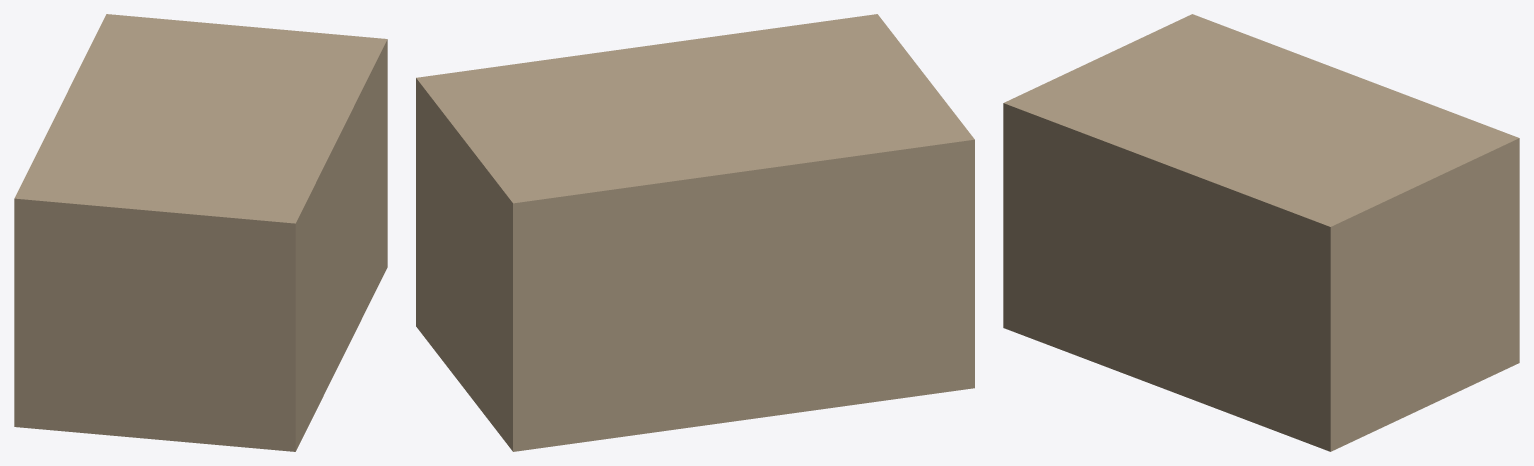
Rendered from bld_101374776.dae.
The picture shows the model from 3 angles, left to right: view 1: azimuth 30°, elevation 25°; view 2: azimuth 150°, elevation 25°; view 3: azimuth 270°, elevation 25°; orthographic projection. The views are drawn at different scales.
Visible parts, largest first — view 1: bld_101374776; view 2: bld_101374776; view 3: bld_101374776.
Part boxes in pixels (x1,y1,x2,y2): bld_101374776: (14, 14, 387, 451); bld_101374776: (416, 14, 974, 451); bld_101374776: (1003, 14, 1519, 451).
Size of the model in its own units: 16.25 by 16.64 by 8.
